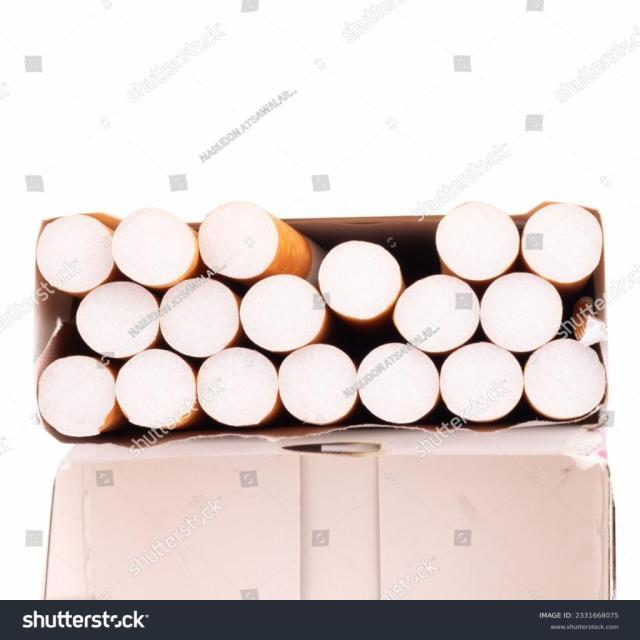smoking: (33, 202, 620, 600)
